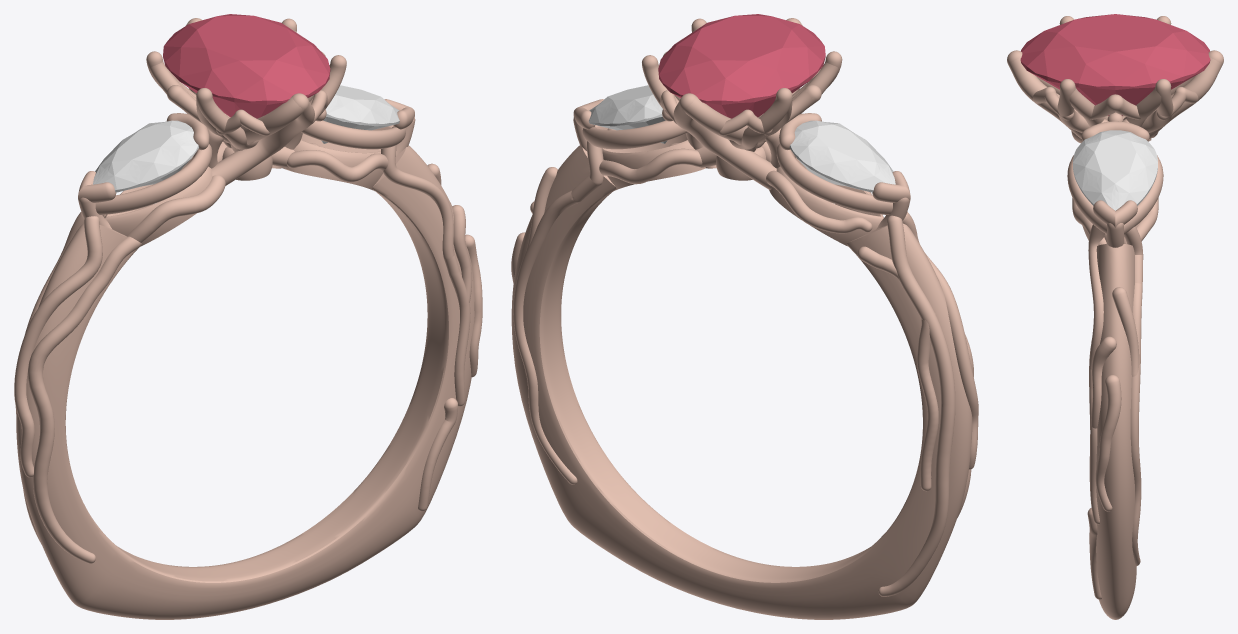
The model's file is IanRGv2eng.glb.
The picture shows the model from 3 angles, left to right: view 1: azimuth 30°, elevation 25°; view 2: azimuth 150°, elevation 25°; view 3: azimuth 270°, elevation 25°; orthographic projection. The views are drawn at different scales.
Visible parts, largest first — view 1: V2 ian RG for 3d model, V2 ian pink sapph for 3d model, V2 ian dia for 3d model.001, V2 ian dia for 3d model; view 2: V2 ian RG for 3d model, V2 ian pink sapph for 3d model, V2 ian dia for 3d model.001, V2 ian dia for 3d model; view 3: V2 ian RG for 3d model, V2 ian pink sapph for 3d model, V2 ian dia for 3d model.
Boxes of the visible parts, x1,y1,x2,y2 form: V2 ian RG for 3d model: [14, 18, 482, 619]; V2 ian pink sapph for 3d model: [163, 14, 330, 118]; V2 ian dia for 3d model.001: [93, 120, 198, 192]; V2 ian dia for 3d model: [321, 85, 399, 143]; V2 ian RG for 3d model: [511, 18, 978, 619]; V2 ian pink sapph for 3d model: [658, 14, 825, 118]; V2 ian dia for 3d model.001: [789, 120, 895, 192]; V2 ian dia for 3d model: [588, 85, 667, 143]; V2 ian RG for 3d model: [1007, 16, 1223, 619]; V2 ian pink sapph for 3d model: [1020, 14, 1210, 115]; V2 ian dia for 3d model: [1073, 130, 1157, 210].
Size of the model in its own units: 24.15 by 28.35 by 10.17.
